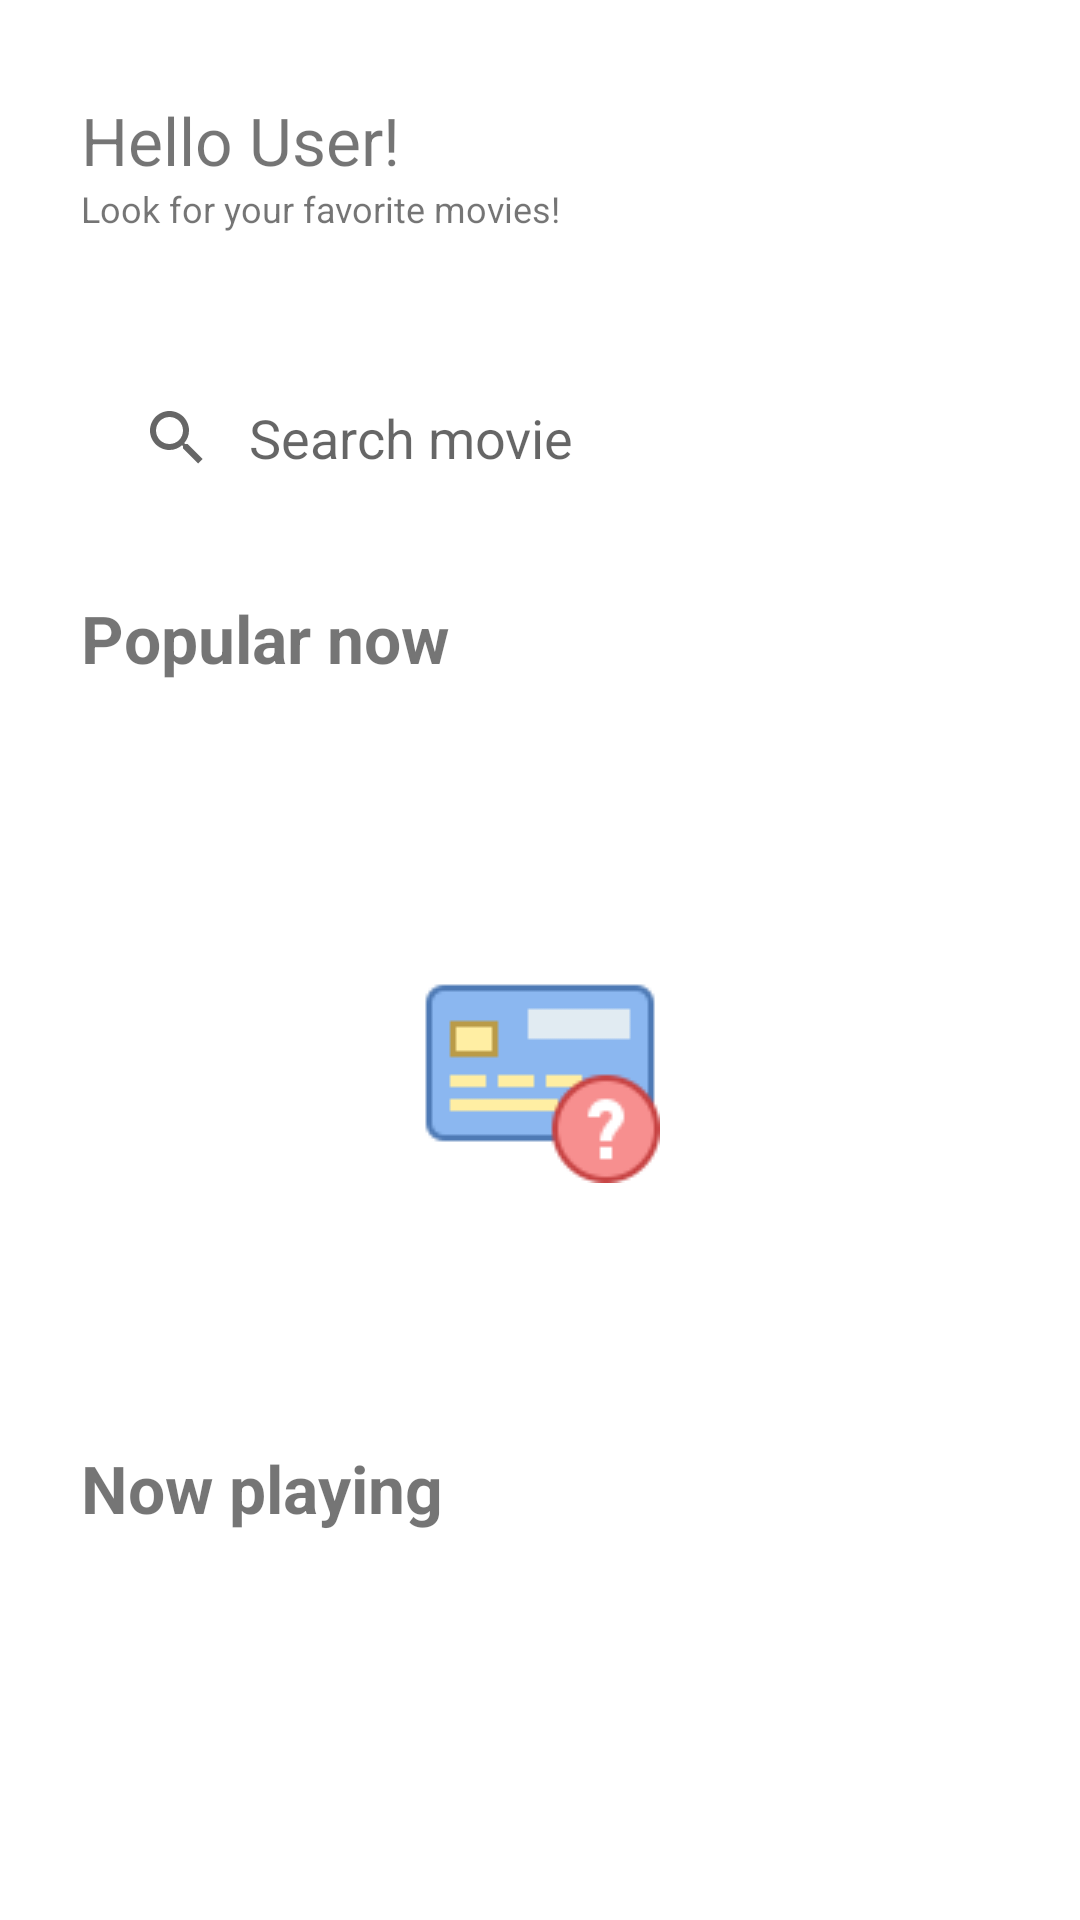

Locate icon controls on the screen. Image size 1080×1920, boxes as (x1, y1, x2, y2).
missing: (425, 984, 660, 1183)
